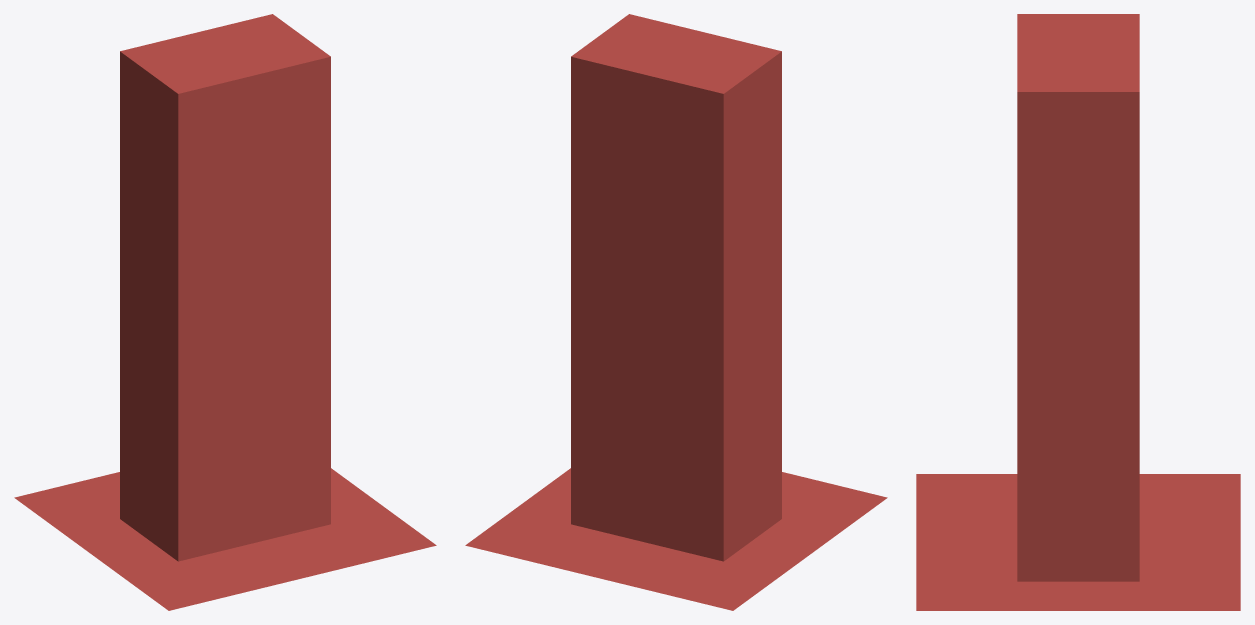
The model's file is 9x9 SkyScraper.fbx.
3 views of the same model, side by side, from view 1: azimuth 30°, elevation 25°; view 2: azimuth 150°, elevation 25°; view 3: azimuth 270°, elevation 25° (orthographic). The views are drawn at different scales.
Visible parts, largest first — view 1: 9x9 SkyScraper; view 2: 9x9 SkyScraper; view 3: 9x9 SkyScraper.
Part boxes in pixels (<box>): 9x9 SkyScraper: <box>14,14,436,610</box>; 9x9 SkyScraper: <box>465,14,887,610</box>; 9x9 SkyScraper: <box>916,14,1240,610</box>.
Bounding box in the file's own units: 9 × 15 × 9.
